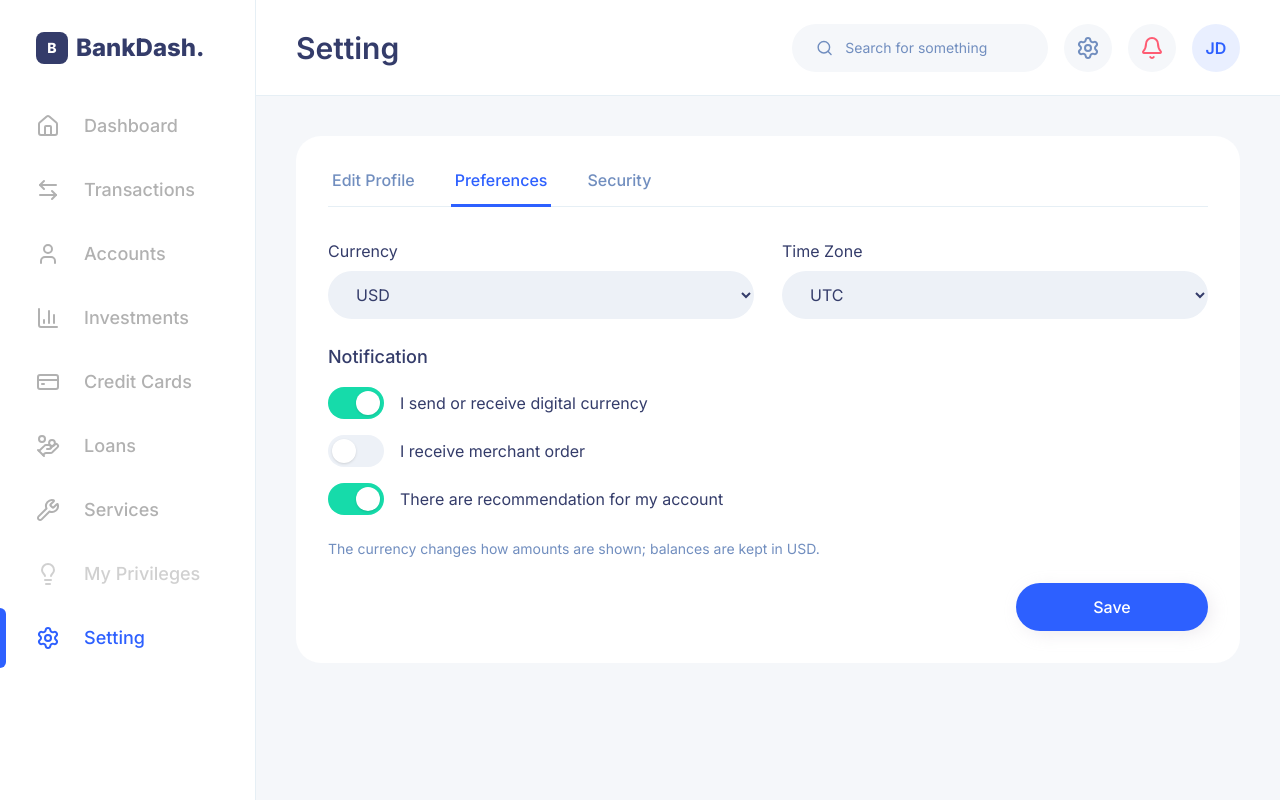
Test: Settings › Preferences › shows and saves the preferences
Expected: the dropdown labelled "Time Zone" shows "UTC", [782,271,1208,319]
Select "EUR" in the dropdown labelled "Currency" at (541, 295), box [328,271,754,319]
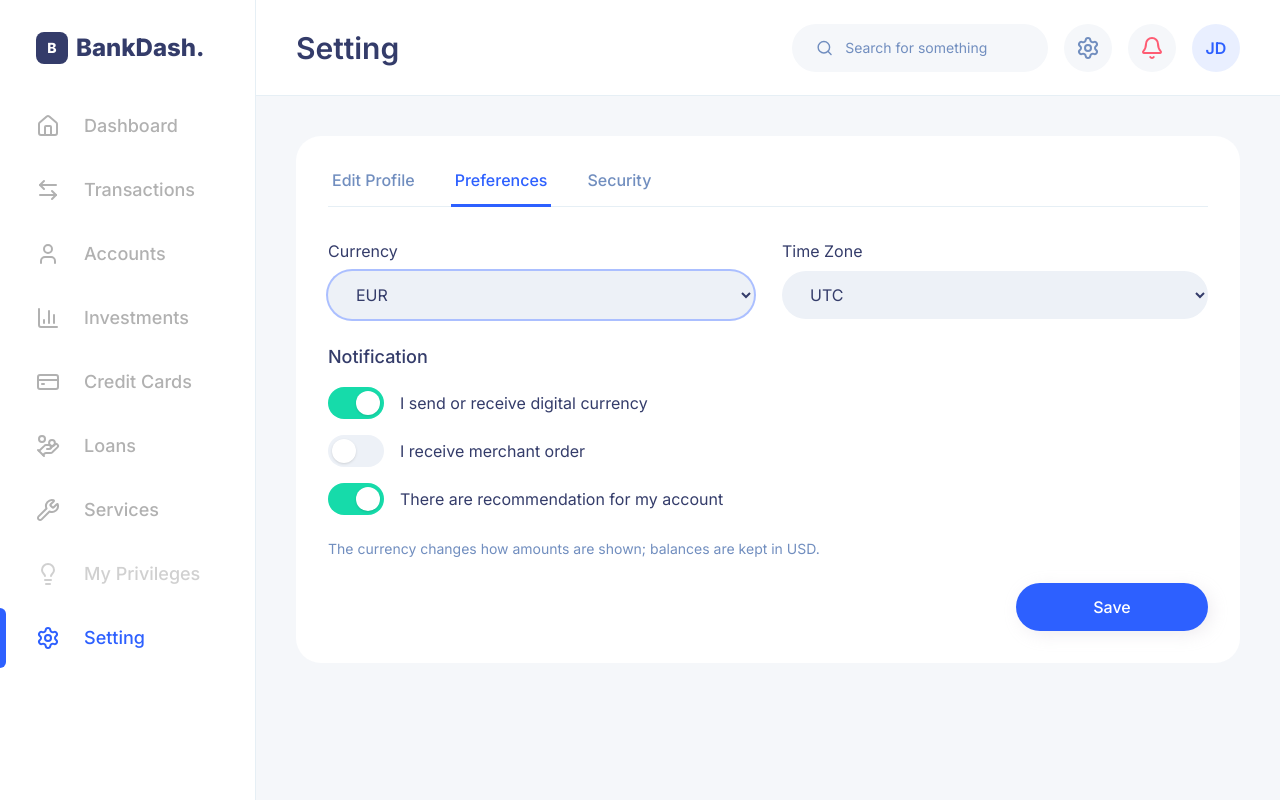
Select "Europe/Berlin" in the dropdown labelled "Time Zone" at (995, 295), box [782,271,1208,319]
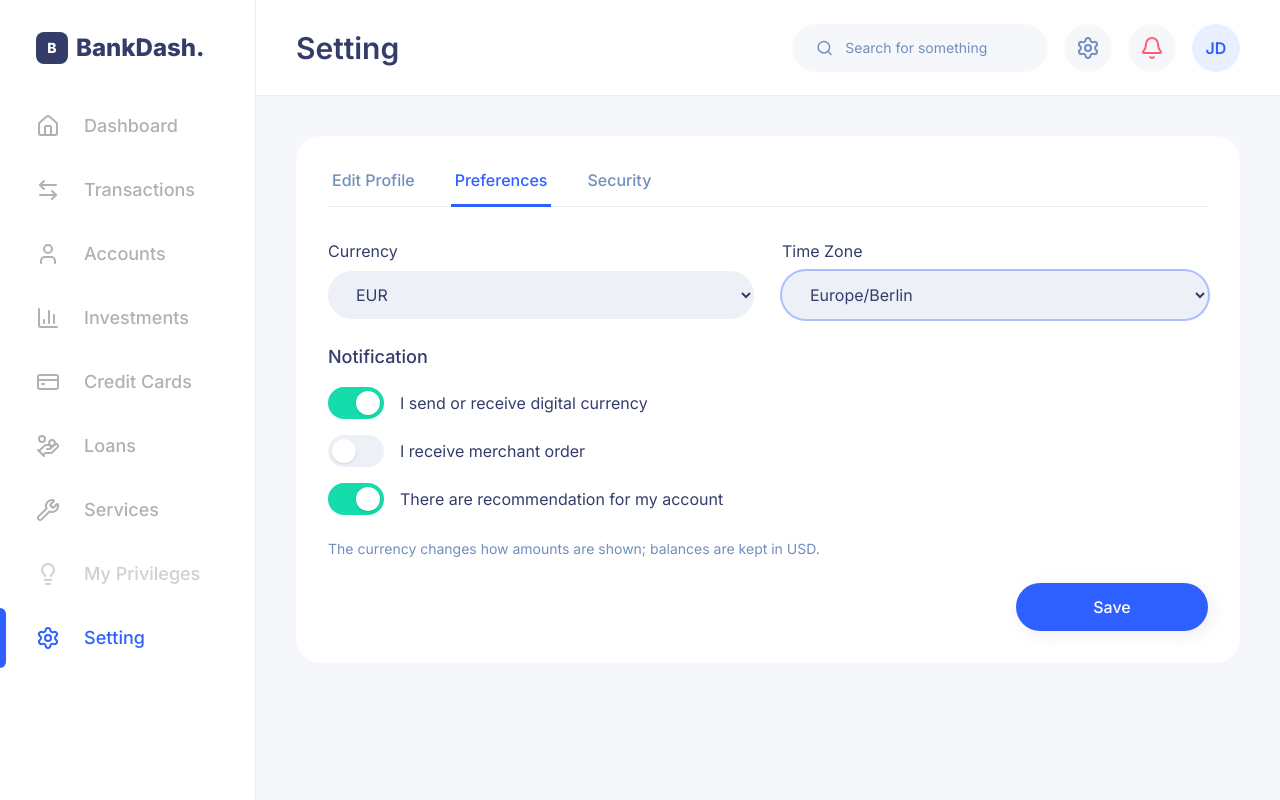
Click the switch named "I receive merchant order" next to "I receive merchant order" at (356, 451), box [328,435,384,467]
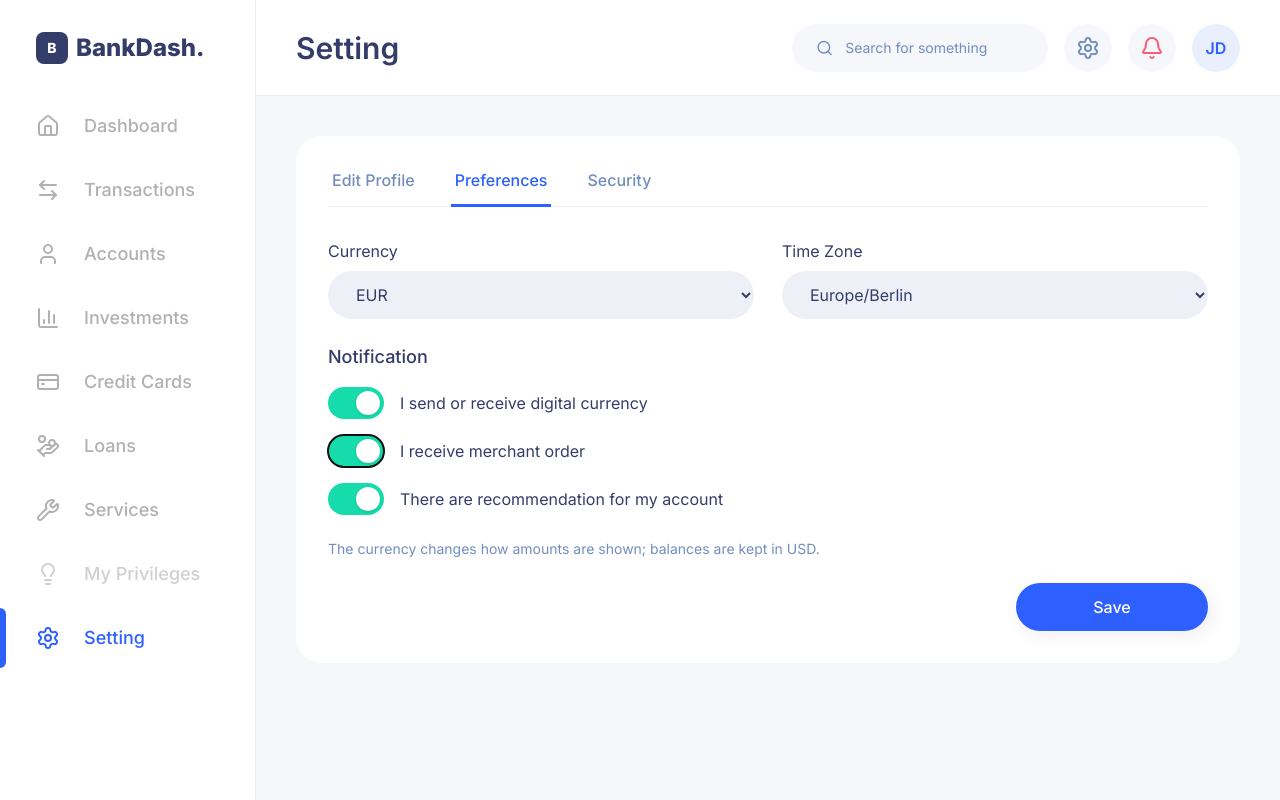
Click the button "Save" at (1112, 607), box [1016,583,1208,631]
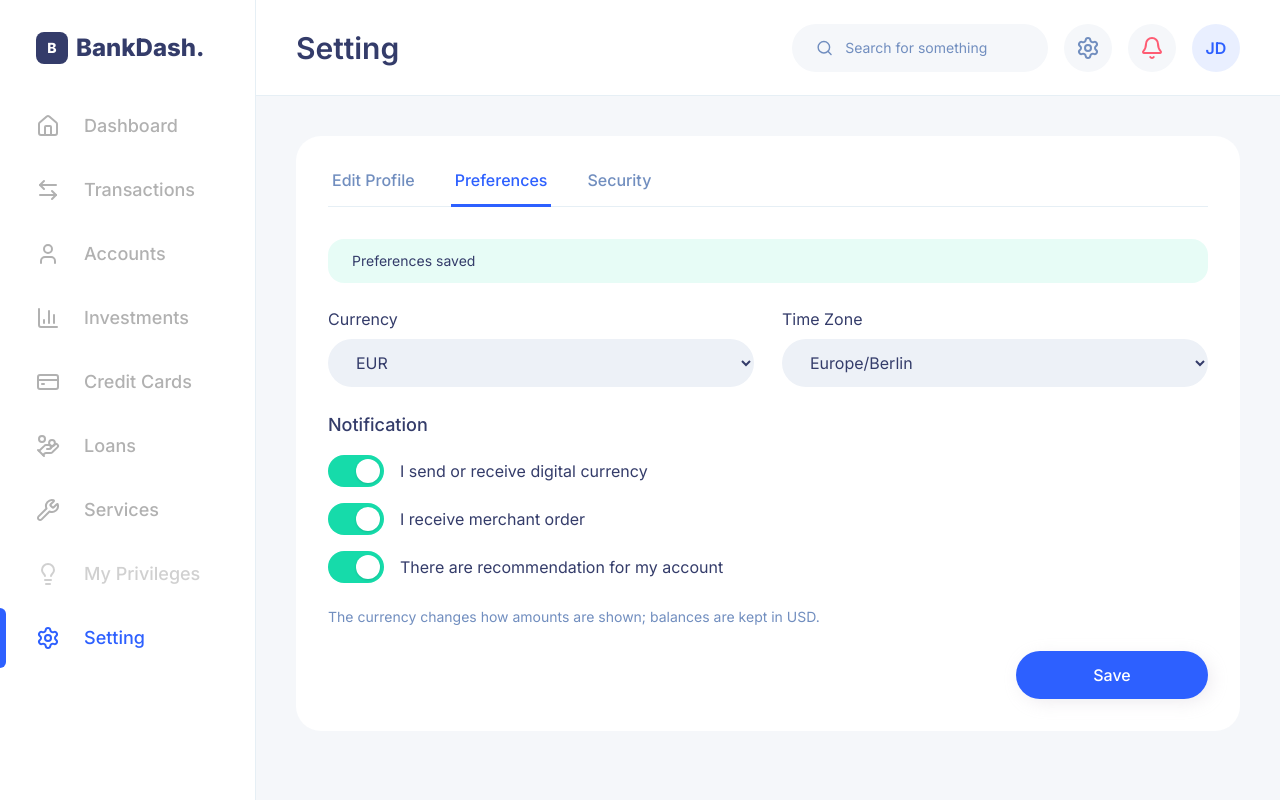
Expected: the message reads "Preferences saved", [352,252,475,269]
